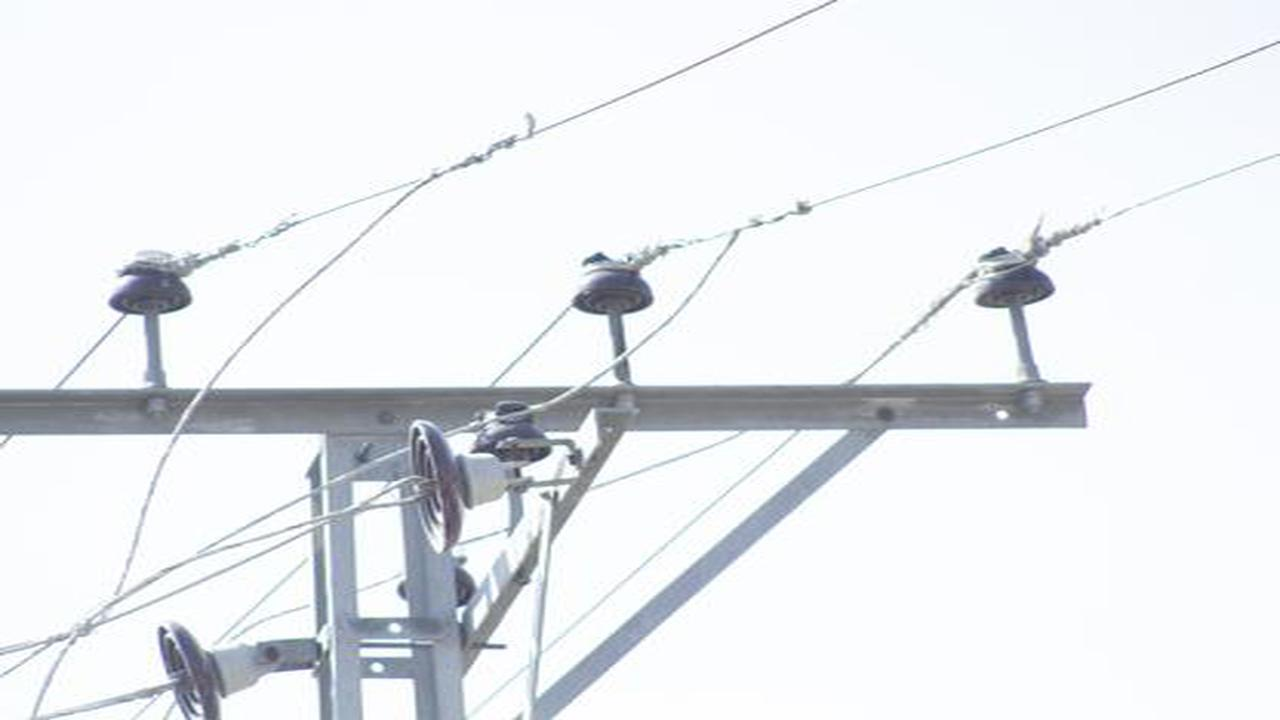insulator_disc: (406, 421, 484, 557), (151, 618, 262, 707)
insulator_pin: (971, 237, 1062, 314), (110, 245, 194, 321), (572, 245, 654, 319), (469, 401, 553, 468)
